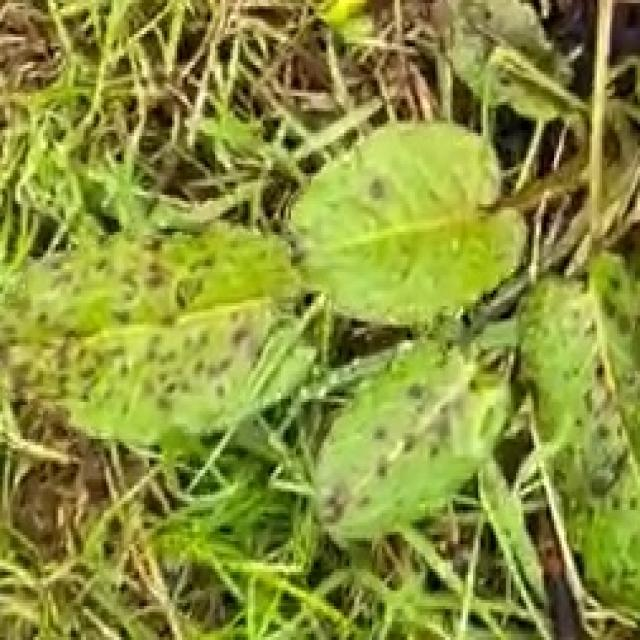organic waste: (33, 99, 640, 614)
